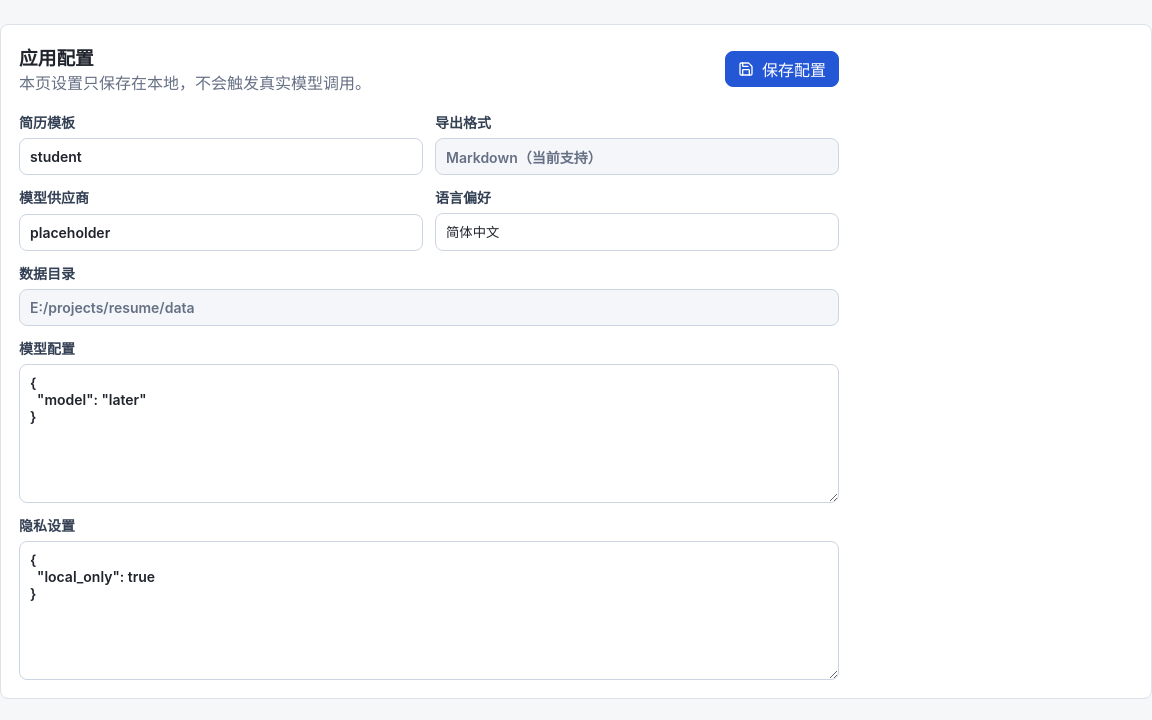
SettingsPage › loads and saves only the public configuration fields
Expected: the field labelled "导出格式" holds "Markdown（当前支持）", [435,138,839,175]
Replace the text in the field labelled "简历模板" with "compact". click: (221, 156)
box: [19,138,423,175]
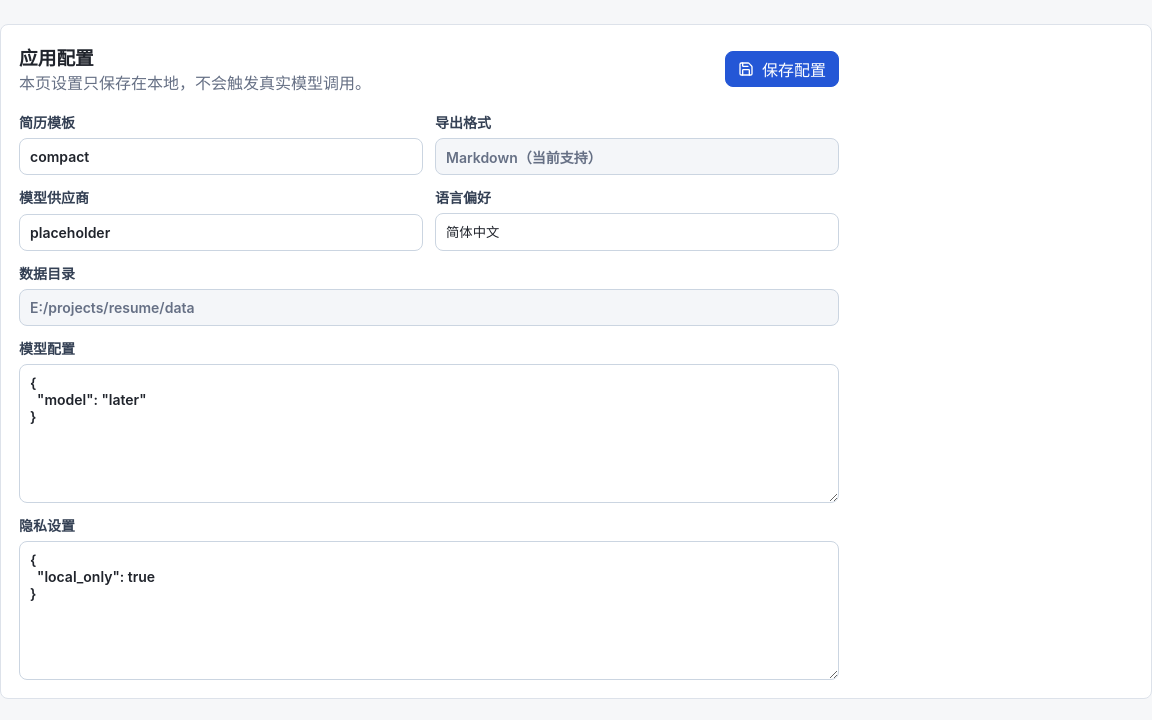
Click the button "保存配置". click: (782, 68)
box: [725,50,839,86]
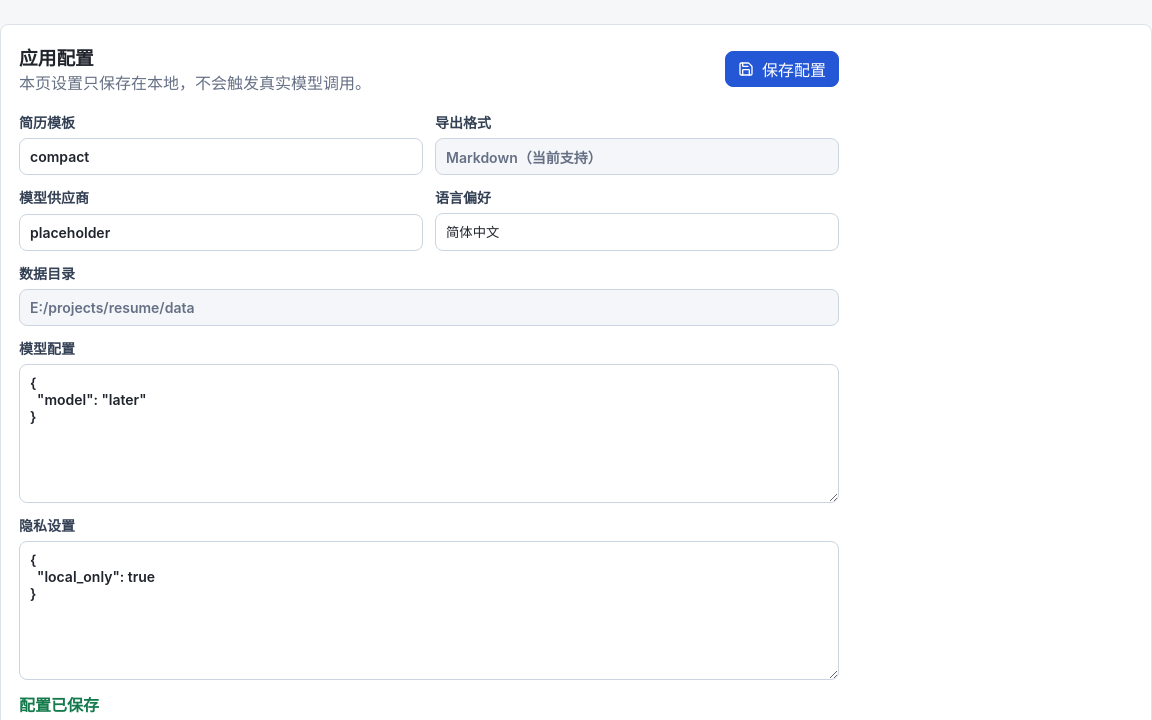
Now the text "配置已保存" is shown, box [19,695,99,715]
